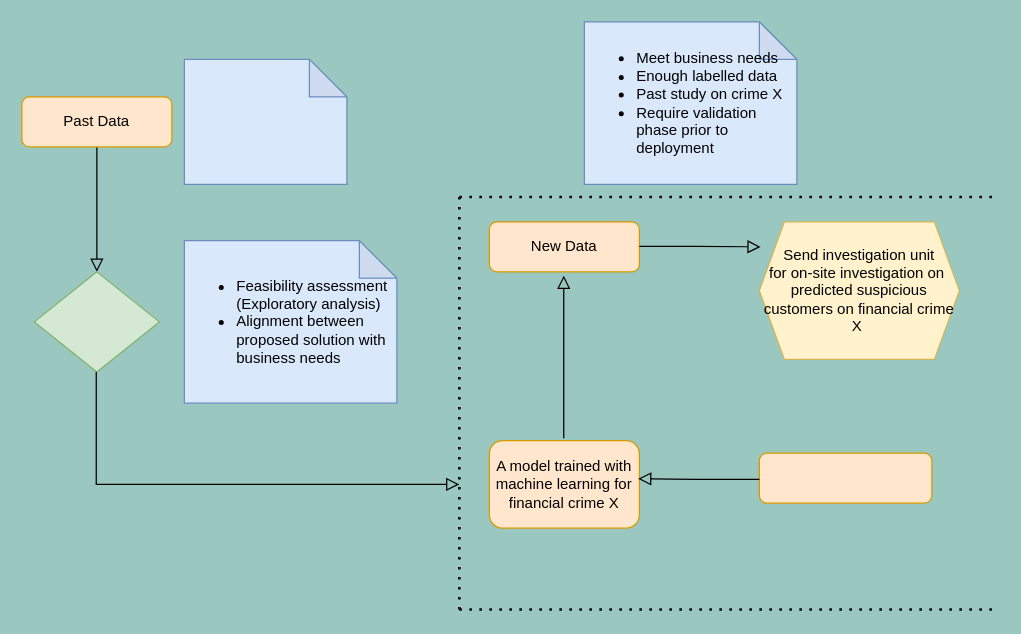
Some shapes in this 1021 by 634 pixel diagram are drawn without their labels. Here are the shapes that lost their labels. From the top down, the box of each, then its label:
(183, 58, 347, 184): Customer demographic Remittance history
(33, 271, 159, 372): Discussion
(758, 452, 932, 503): Training Data - 6 months
